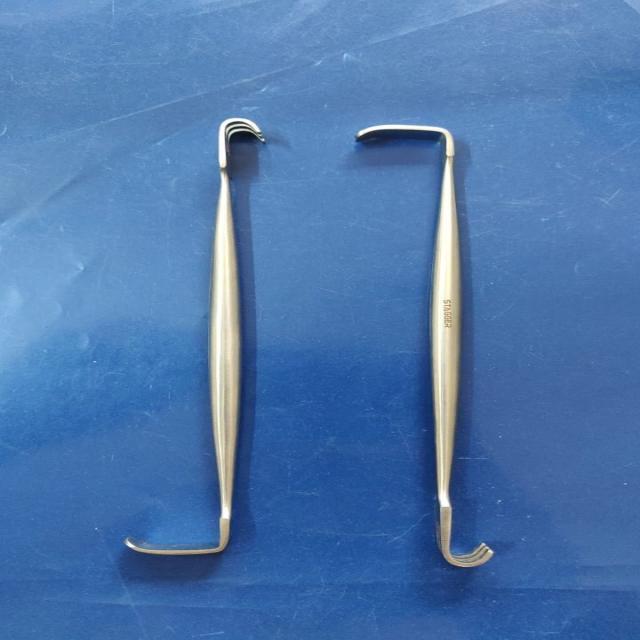Senn Retractor: (117, 106, 297, 571), (351, 118, 508, 580)
